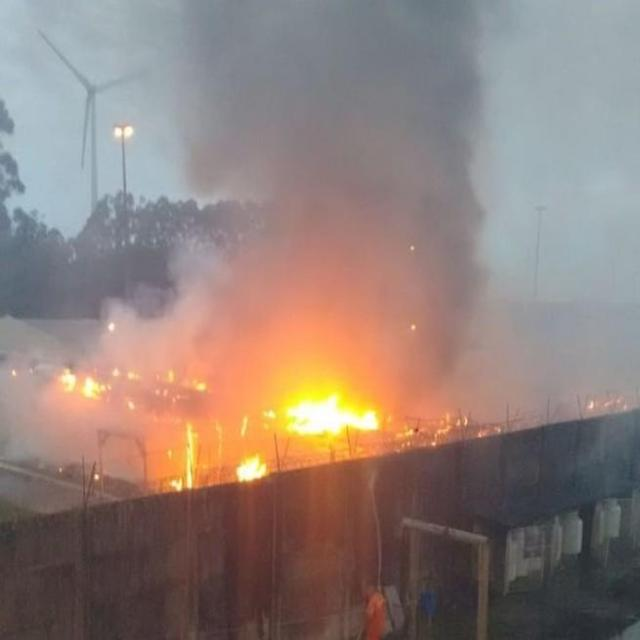Fire: (274, 393, 379, 443), (158, 423, 204, 496), (431, 409, 472, 445), (60, 368, 106, 397), (238, 451, 270, 484), (191, 378, 210, 392)
